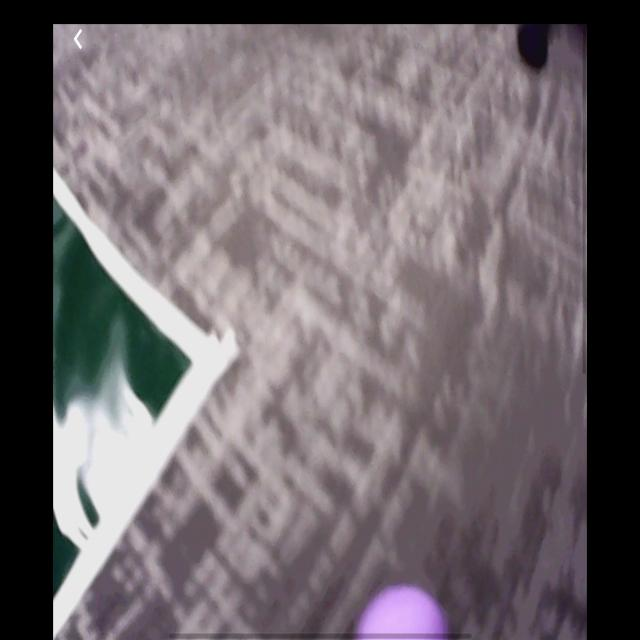ball: (355, 583, 450, 639)
